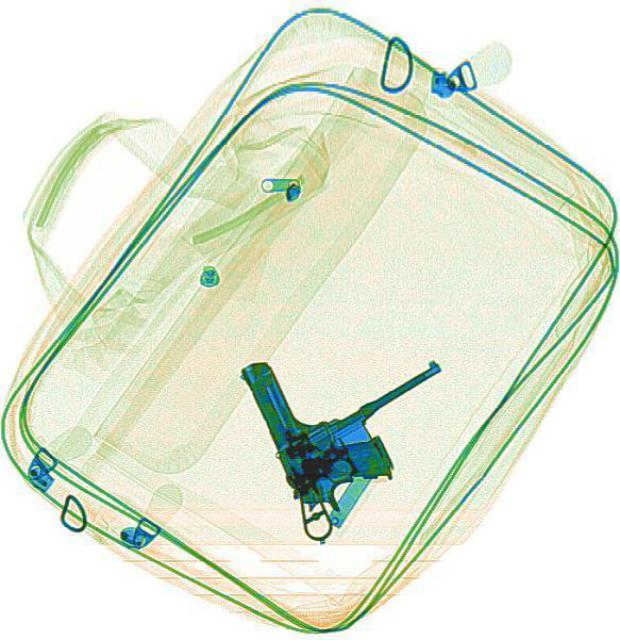Gun: (257, 360, 488, 546), (237, 330, 401, 522)
